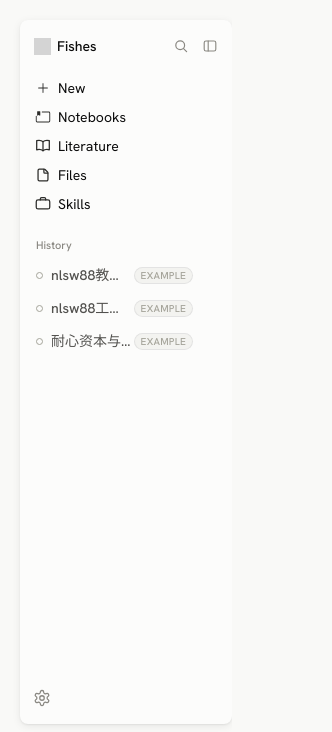
Test: Sidebar gear menu › navigates when a menu item is clicked (menu does not self-dismiss first)
This screenshot has width=332, height=732.
// Open the menu (the gear button carries the Settings aria-label).
Step 1. Click the button named "Settings" → point(42, 698), box [26,682,58,714]
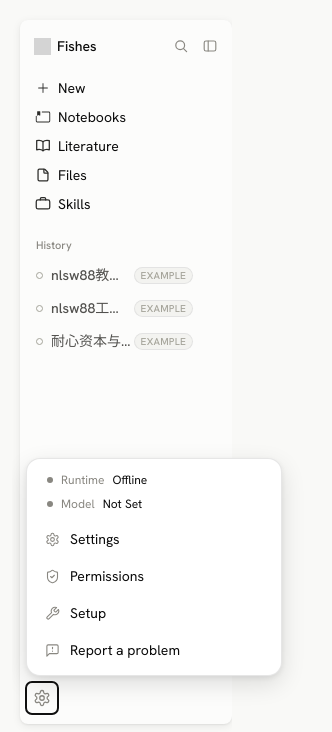
// The Setup item is now in the portalled menu.
Step 2. Click the menu item "Setup" → point(154, 614), box [33,595,275,632]
(page scrolled)
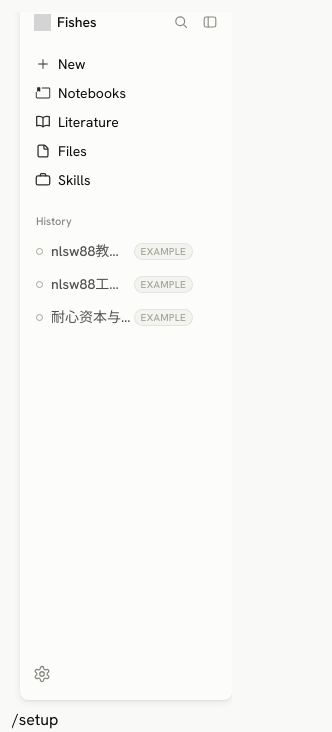
expect the text with test id "path" reads "/setup": met, box [12,709,58,730]
